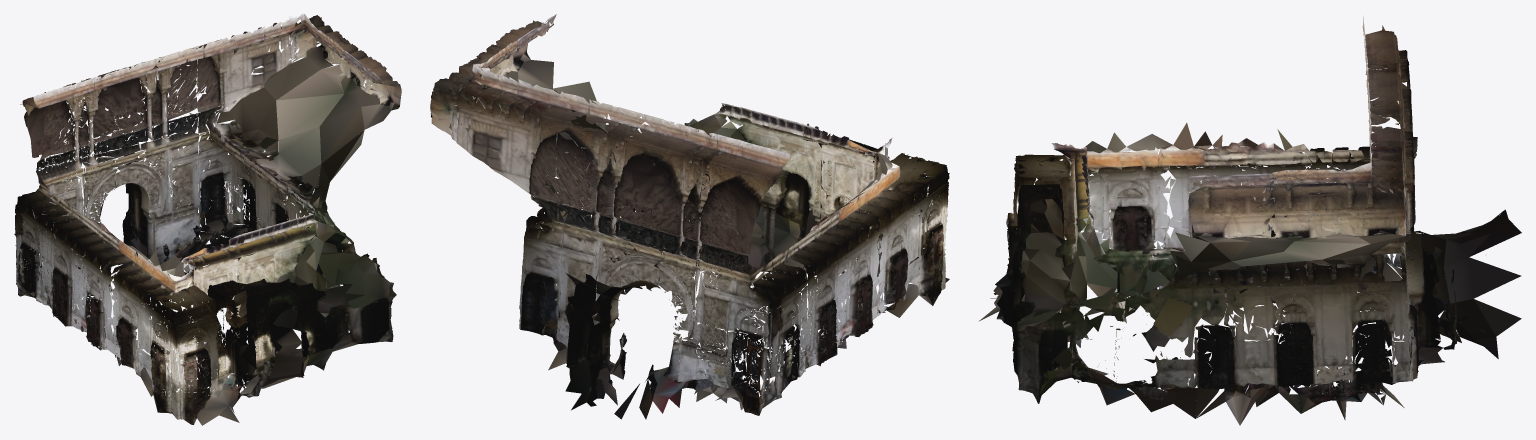
File: thumb.glb
3 renders of one model, left to right at view 1: azimuth 30°, elevation 25°; view 2: azimuth 150°, elevation 25°; view 3: azimuth 270°, elevation 25°, orthographic. The views are drawn at different scales.
Visible parts, largest first — view 1: Alhambra_Patio_PG; view 2: Alhambra_Patio_PG; view 3: Alhambra_Patio_PG.
Part boxes in pixels (x1=…): Alhambra_Patio_PG: x1=14, y1=14, x2=401, y2=425; Alhambra_Patio_PG: x1=430, y1=14, x2=949, y2=419; Alhambra_Patio_PG: x1=979, y1=15, x2=1521, y2=425.
Bounding box in the file's own units: 22.27 × 16.52 × 27.52.
1 material, 1 textured.
